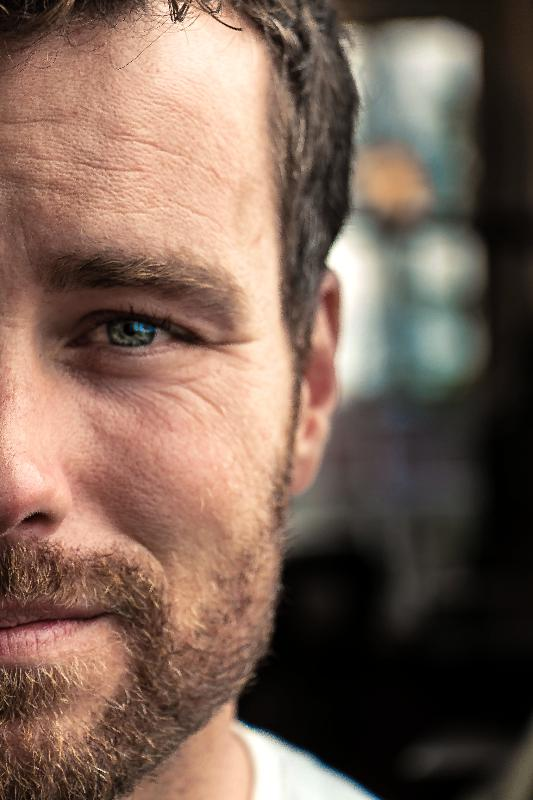Person: (1, 2, 387, 800)
